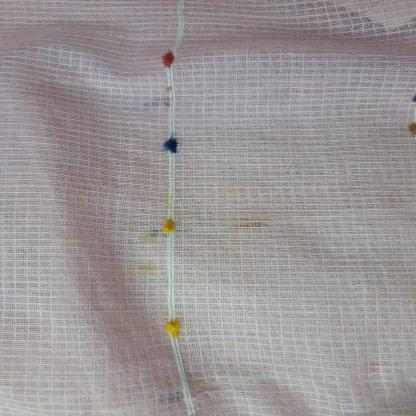spot: (233, 217, 268, 229), (140, 228, 156, 247), (136, 260, 159, 272), (164, 194, 178, 212)
